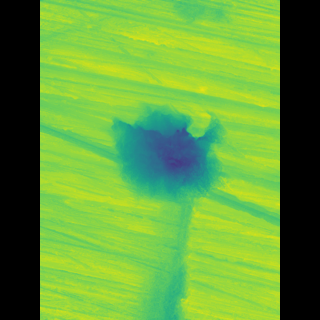Loch: (121, 104, 212, 204)
